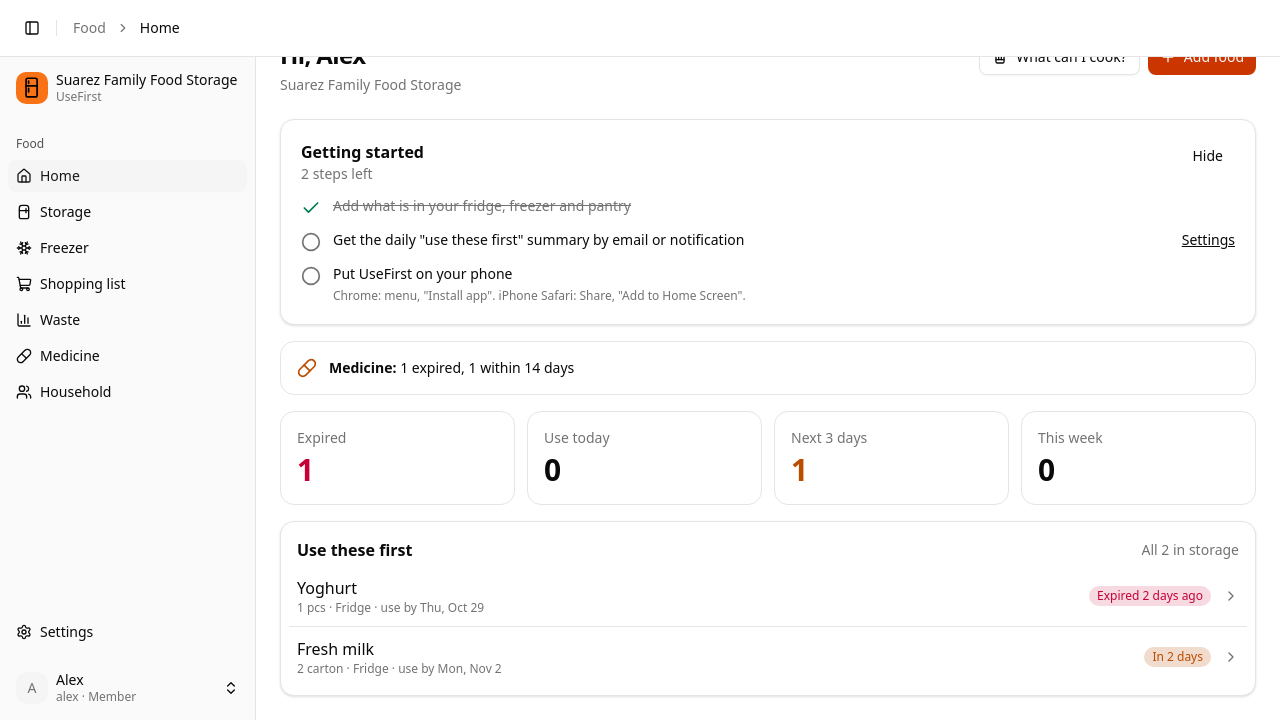
Home › opens an item and uses some of it
This screenshot has width=1280, height=720.
(page scrolled)
What coordinates should you click on to do the following:
click the button "Fresh milk 2 carton · Fridge · use by Mon, Nov 2 In 2 days"
I would click on:
 (336, 649)
Its box is [289, 627, 1247, 687].
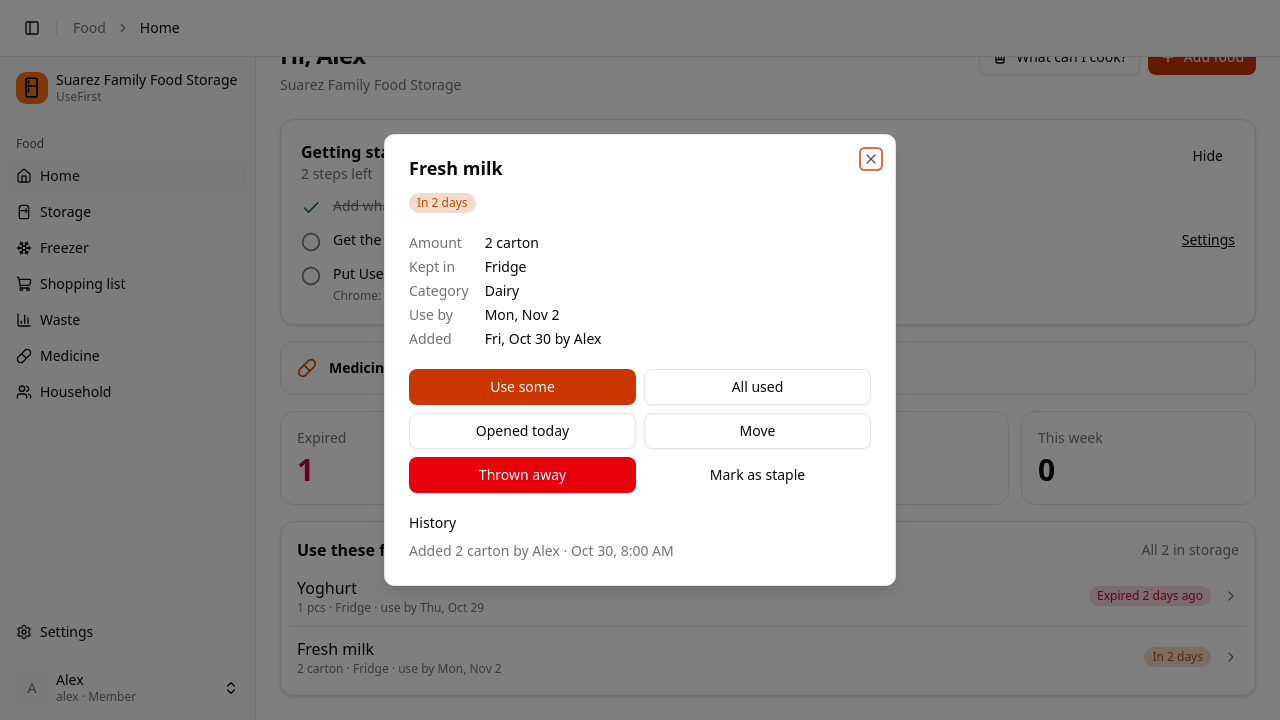
Expected: the text "2 carton" is shown, [485, 233, 539, 252]
Expected: the text "Fri, Oct 30 by Alex" is shown 2 times, [485, 329, 602, 348]; [409, 541, 674, 560]
What coordinates should you click on to do the following:
click the button "Use some"
I would click on:
 (522, 387)
Its box is [409, 369, 636, 405].
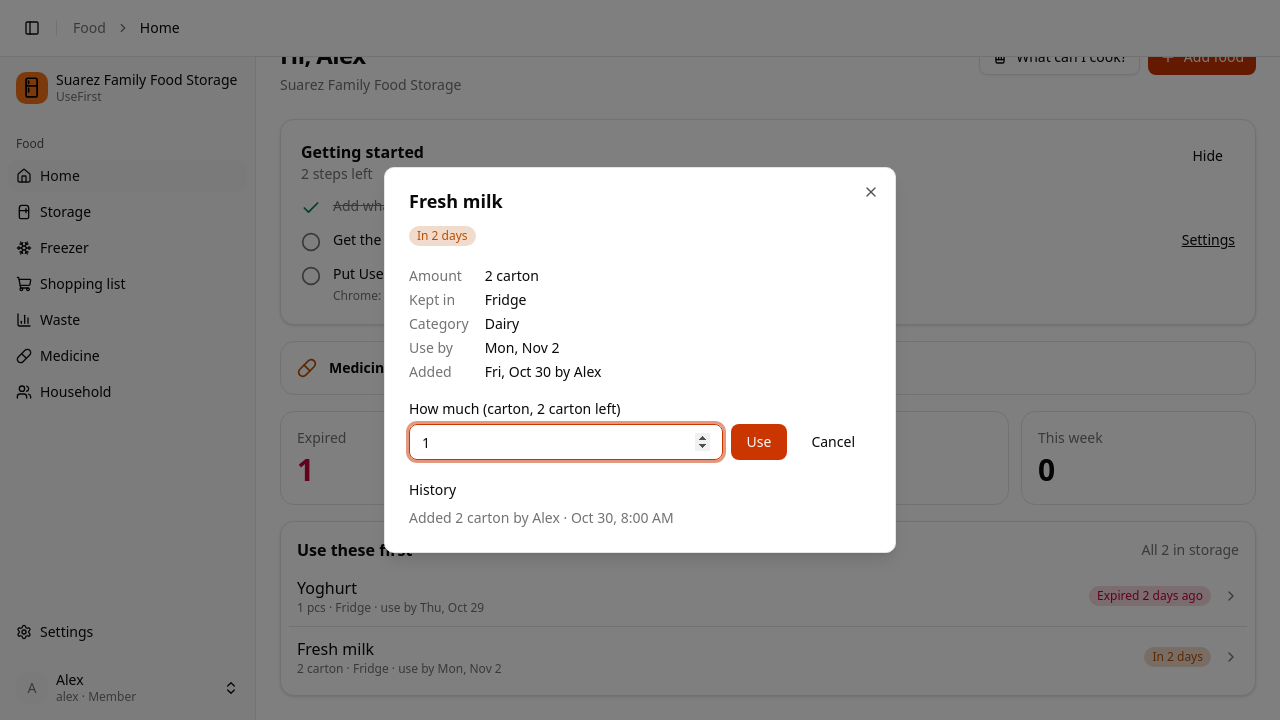
What coordinates should you click on to do the following:
click the button "Use"
I would click on:
 (759, 442)
Its box is [731, 424, 787, 460].
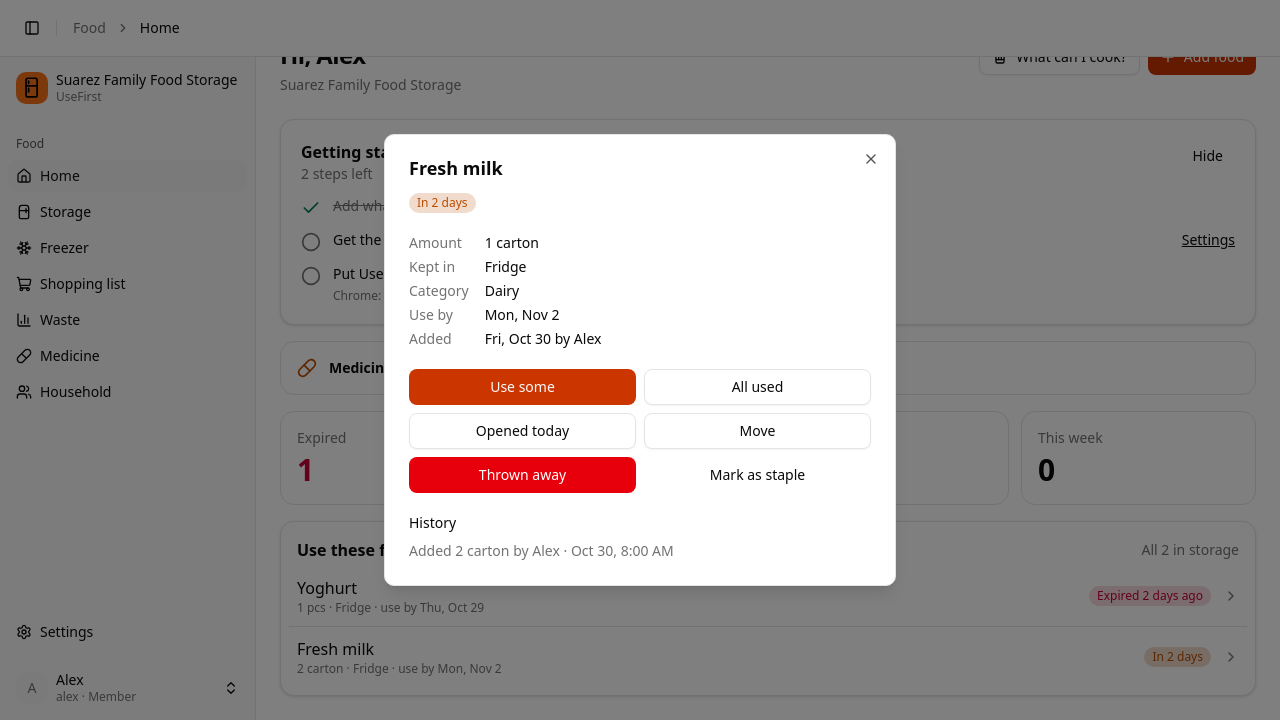
Expected: the text "1 carton" is shown, [485, 233, 539, 252]
